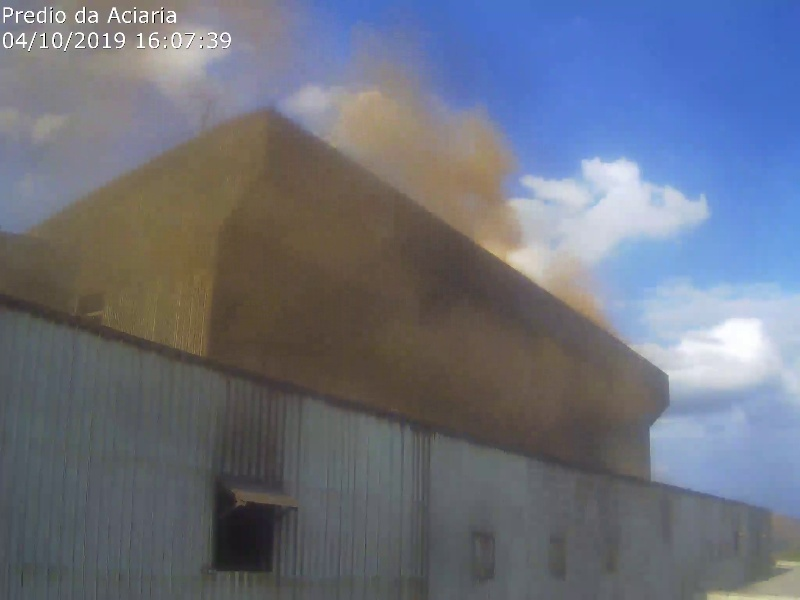bom: (530, 1, 800, 192), (668, 192, 800, 469)
pessimo: (1, 3, 309, 346), (317, 24, 517, 406), (519, 253, 654, 463)
